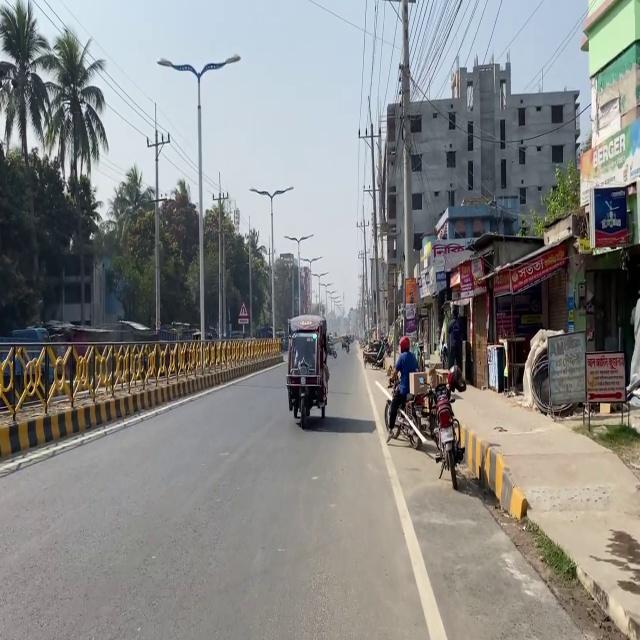Fallen-tree: (428, 364, 466, 490), (384, 378, 428, 449), (326, 333, 337, 357), (341, 335, 352, 352)
Garbage: (408, 370, 428, 395)
Garbage-bin: (386, 336, 419, 430)
Pole: (8, 334, 262, 448)
Pothole: (378, 348, 639, 638)
Traffic-cone: (284, 313, 330, 428)
